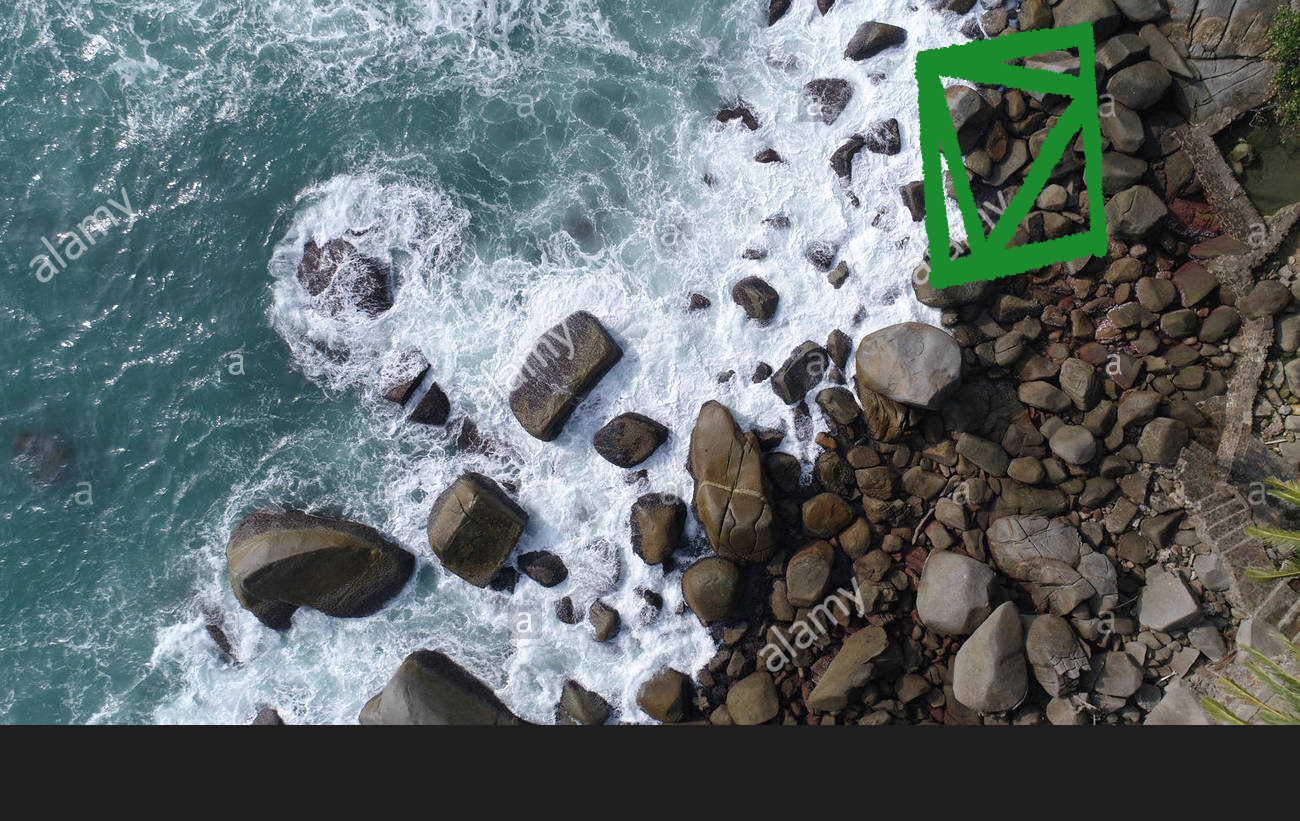marker: (912, 18, 1109, 294)
